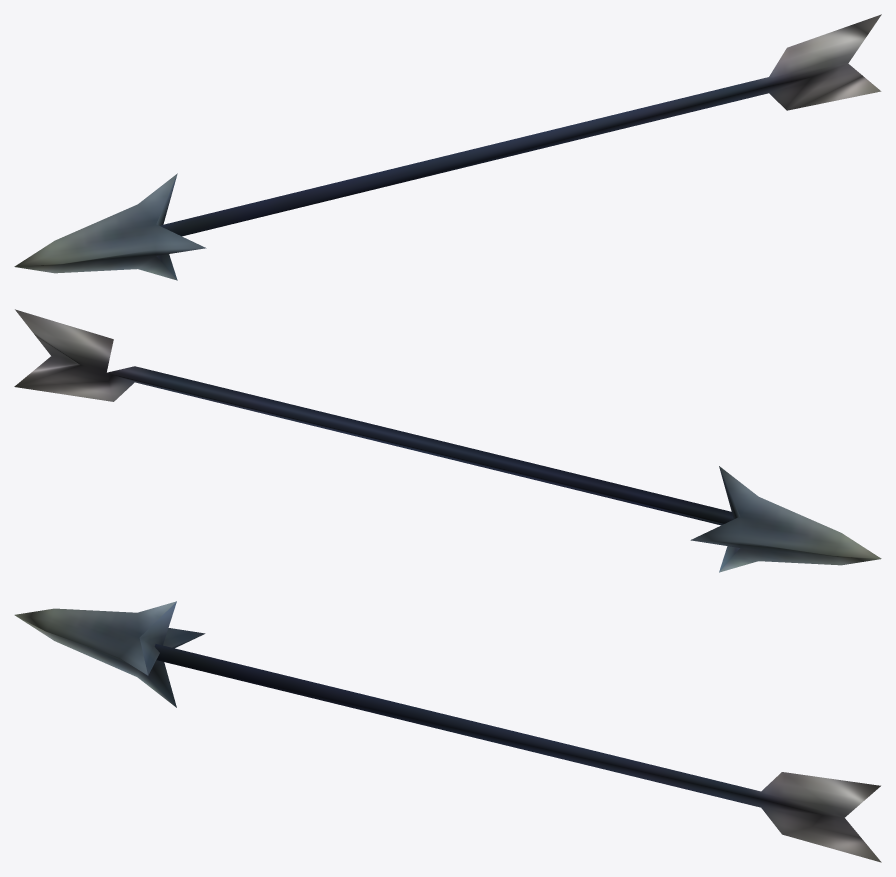
File: busterArrow.glb
3 views of the same model, one above another, from view 1: azimuth 30°, elevation 25°; view 2: azimuth 150°, elevation 25°; view 3: azimuth 330°, elevation 25° (orthographic).
Parts seen in each view (by area): view 1: busterArrow; view 2: busterArrow; view 3: busterArrow.
Boxes of the visible parts, x1=… form: busterArrow: x1=14, y1=14, x2=881, y2=280; busterArrow: x1=14, y1=309, x2=881, y2=572; busterArrow: x1=14, y1=601, x2=881, y2=862.
Bounding box in the file's own units: 1.07 × 0.1265 × 0.1238.
Materials: 1 (1 with a texture image).
